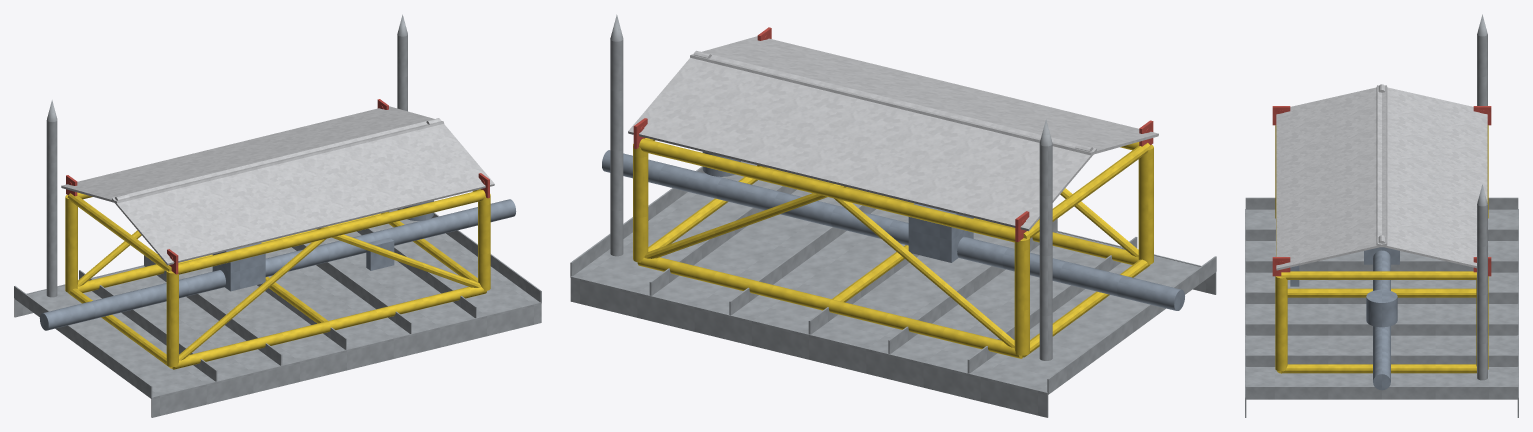
Rendered from subsea-structure-frames.glb.
3 renders of one model, left to right at view 1: azimuth 30°, elevation 25°; view 2: azimuth 150°, elevation 25°; view 3: azimuth 270°, elevation 25°, orthographic. The views are drawn at different scales.
Parts seen in each view (by area): view 1: Mudmat&Skirts, ProtectionRoof, StructureFrame, Pipework&Valves(context), GuidePosts, LiftingPadeyes; view 2: Mudmat&Skirts, ProtectionRoof, StructureFrame, Pipework&Valves(context), GuidePosts, LiftingPadeyes; view 3: ProtectionRoof, Mudmat&Skirts, StructureFrame, Pipework&Valves(context), GuidePosts, LiftingPadeyes.
Boxes of the visible parts, x1,y1,x2,y2 form: Mudmat&Skirts: (14,209,541,417); ProtectionRoof: (61,106,494,265); StructureFrame: (65,189,490,369); Pipework&Valves(context): (39,199,516,330); GuidePosts: (46,14,407,297); LiftingPadeyes: (66,99,489,274); Mudmat&Skirts: (570,161,1216,417); ProtectionRoof: (628,36,1158,231); StructureFrame: (633,138,1153,358); Pipework&Valves(context): (602,150,1184,310); GuidePosts: (610,14,1052,360); LiftingPadeyes: (633,27,1153,241); ProtectionRoof: (1276,84,1487,270); Mudmat&Skirts: (1245,197,1518,417); StructureFrame: (1275,125,1488,373); Pipework&Valves(context): (1290,247,1399,390); GuidePosts: (1477,14,1487,380); LiftingPadeyes: (1272,106,1491,276).
Size of the model in its own units: 12 by 5.55 by 6.13.
5 materials, 5 textured.
